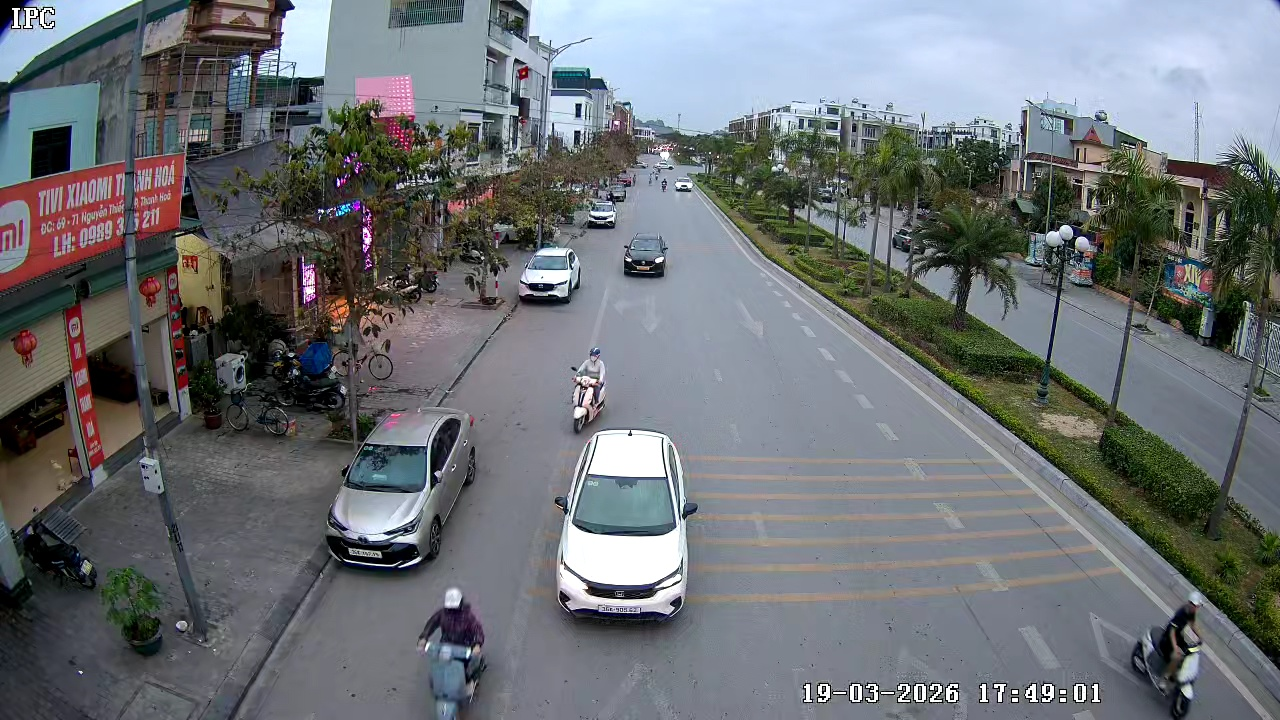bike: (363, 331, 396, 381)
car: (552, 427, 700, 623), (325, 405, 478, 572), (517, 245, 583, 304), (621, 231, 671, 278), (584, 196, 620, 229), (676, 175, 697, 192)
motorbike: (415, 585, 490, 719), (1129, 598, 1207, 719), (568, 344, 609, 433)
